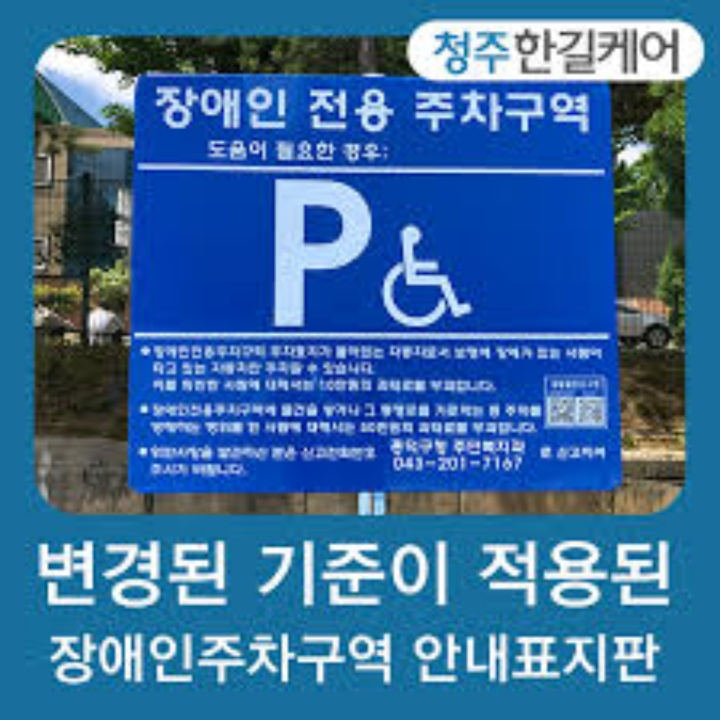parking: (265, 171, 378, 332)
